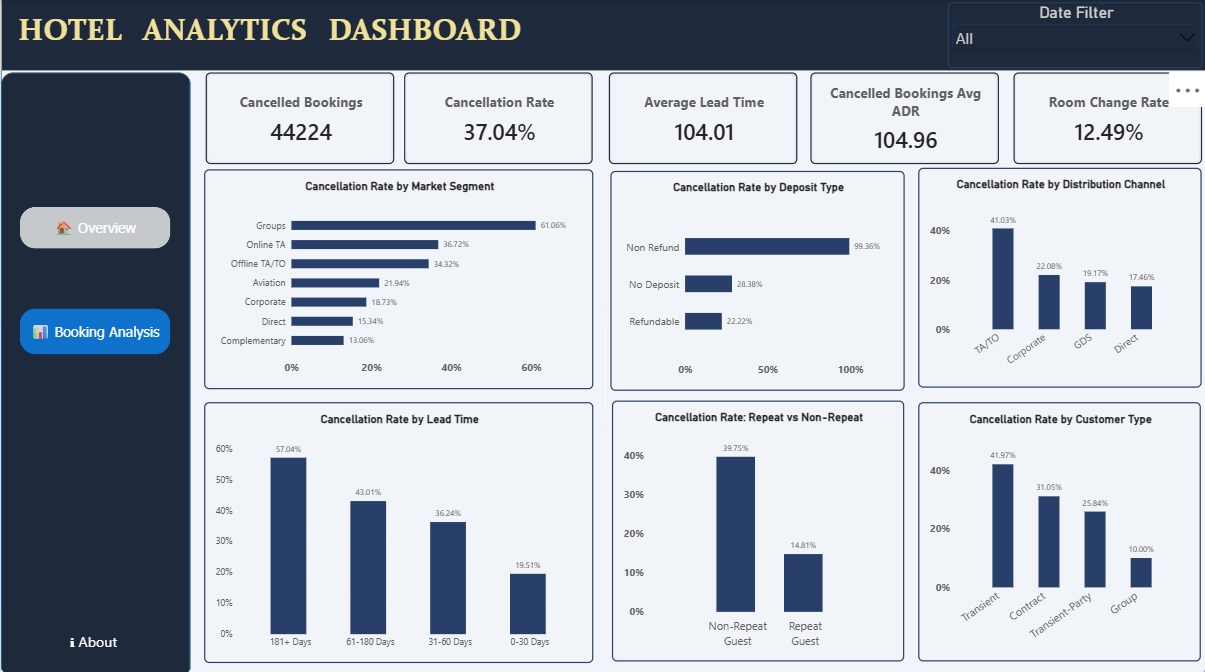

This screenshot's page, from the dashboard's own definition file:
{"tool":"powerbi","page":{"name":"📊 Booking Analysis","canvas":[1920,1080],"ordinal":1},"visuals":[{"type":"shape","box":[0,0,1920,1080],"z":0},{"type":"cardVisual","fields":{"Data":["_measures.total_revenue"]},"box":[960.7,488.6,3.3,201.4],"z":1000},{"type":"shape","box":[0,115.9,302.3,964.7],"z":2000},{"type":"actionButton","box":[30,330,240,66.7],"z":3000},{"type":"actionButton","box":[30,493.3,240,73.3],"z":4000},{"type":"actionButton","box":[26.7,993.3,240,63.3],"z":5000},{"type":"cardVisual","fields":{"Data":["_measures.cancelled_bookings"]},"box":[324.9,115.9,300,146.1],"z":6000},{"type":"cardVisual","fields":{"Data":["_measures.avg_adr_of_cancelled_bookings"]},"box":[1287.2,115.9,300,146.1],"z":7000},{"type":"cardVisual","fields":{"Data":["Avg(gold hotel_data.lead_time)"]},"box":[967.3,115.9,300,146.1],"z":8000},{"type":"cardVisual","fields":{"Data":["_measures.cancellation_rate"]},"box":[642.3,115.9,300,146.1],"z":9000},{"type":"cardVisual","fields":{"Data":["_measures.room_change_rate"]},"box":[1612.1,115.9,300,146.1],"z":10000},{"type":"barChart","title":"Cancellation Rate by Market Segment","fields":{"Category":["gold hotel_data.market_segment"],"Y":["_measures.cancellation_rate"]},"box":[322.4,272,619.7,350.1],"z":11000},{"type":"columnChart","title":"Cancellation Rate by Lead Time","fields":{"Y":["_measures.cancellation_rate"],"Category":["gold hotel_data.lead_time_bucket"]},"box":[323.3,641.7,619.3,415.4],"z":12000},{"type":"columnChart","title":"Cancellation Rate by Customer Type","fields":{"Category":["gold hotel_data.customer_type"],"Y":["_measures.cancellation_rate"]},"box":[1459.9,641.7,450.2,412.9],"z":13000},{"type":"shape","box":[0,0,1920,113.4],"z":15000},{"type":"textbox","box":[27.7,20.2,818.6,68],"z":16000},{"type":"slicer","title":"Date Filter","fields":{"Values":["gold hotel_data.arrival_date.Variation.Date Hierarchy.Year","gold hotel_data.arrival_date.Variation.Date Hierarchy.Month"]},"box":[1506.3,5,405.5,105.8],"z":17000},{"type":"columnChart","title":"Cancellation Rate: Repeat vs Non-Repeat","fields":{"Category":["gold hotel_data.guest_type"],"Y":["_measures.cancellation_rate"]},"box":[972.5,639.2,465.1,415.4],"z":18000},{"type":"columnChart","title":"Cancellation Rate by Distribution Channel","fields":{"Y":["_measures.cancellation_rate"],"Category":["gold hotel_data.distribution_channel"]},"box":[1461,269.5,450.9,350.1],"z":19000},{"type":"barChart","title":"Cancellation Rate by Deposit Type","fields":{"Category":["gold hotel_data.deposit_type"],"Y":["_measures.cancellation_rate"]},"box":[970,272.9,468.4,350.4],"z":20000}]}

Visuals, with their boxes on the page's 1920x1080 design canvas (x1, y1, x2, y2). These are canvas units, not pixel positions in the 1205x672 screenshot, which may show the page scaled, cropped or inside an application window:
shape: Rect(0, 0, 1920, 1080)
cardVisual - _measures.total_revenue: Rect(961, 489, 964, 690)
shape: Rect(0, 116, 302, 1081)
actionButton: Rect(30, 330, 270, 397)
actionButton: Rect(30, 493, 270, 567)
actionButton: Rect(27, 993, 267, 1057)
cardVisual - _measures.cancelled_bookings: Rect(325, 116, 625, 262)
cardVisual - _measures.avg_adr_of_cancelled_bookings: Rect(1287, 116, 1587, 262)
cardVisual - Avg(gold hotel_data.lead_time): Rect(967, 116, 1267, 262)
cardVisual - _measures.cancellation_rate: Rect(642, 116, 942, 262)
cardVisual - _measures.room_change_rate: Rect(1612, 116, 1912, 262)
"Cancellation Rate by Market Segment" barChart: Rect(322, 272, 942, 622)
"Cancellation Rate by Lead Time" columnChart: Rect(323, 642, 943, 1057)
"Cancellation Rate by Customer Type" columnChart: Rect(1460, 642, 1910, 1055)
shape: Rect(0, 0, 1920, 113)
textbox: Rect(28, 20, 846, 88)
"Date Filter" slicer: Rect(1506, 5, 1912, 111)
"Cancellation Rate: Repeat vs Non-Repeat" columnChart: Rect(972, 639, 1438, 1055)
"Cancellation Rate by Distribution Channel" columnChart: Rect(1461, 270, 1912, 620)
"Cancellation Rate by Deposit Type" barChart: Rect(970, 273, 1438, 623)
